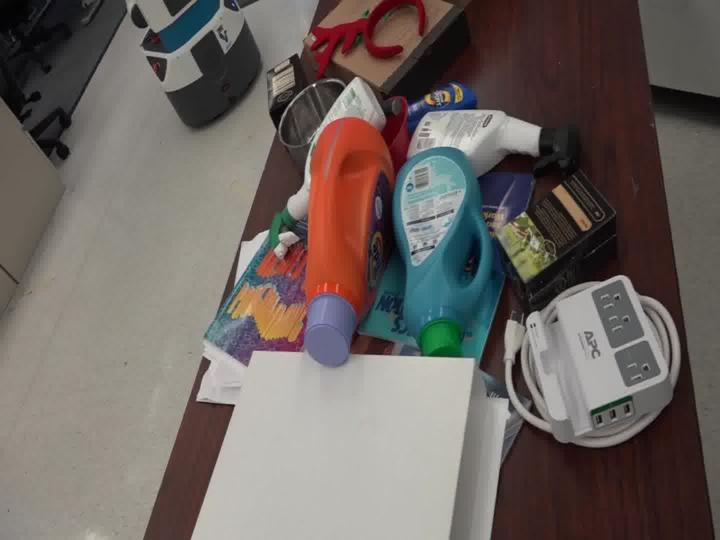downy: (379, 128, 507, 353)
